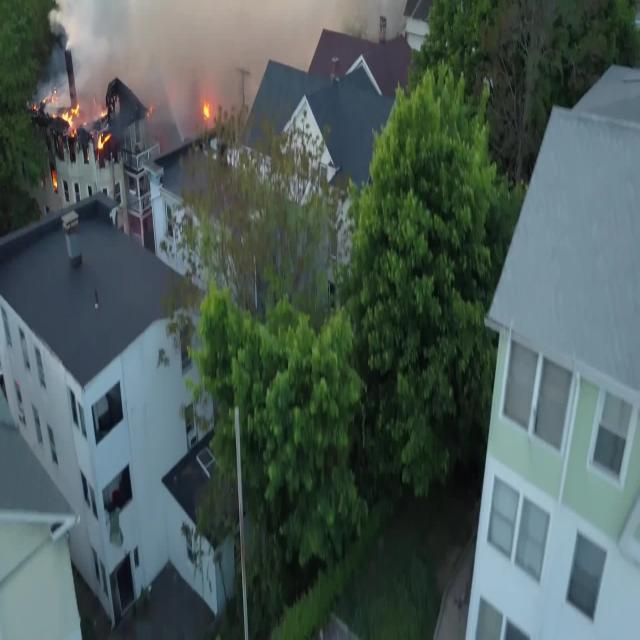Fire: (26, 71, 133, 182), (190, 84, 233, 134)
Smoke: (74, 0, 330, 63)
